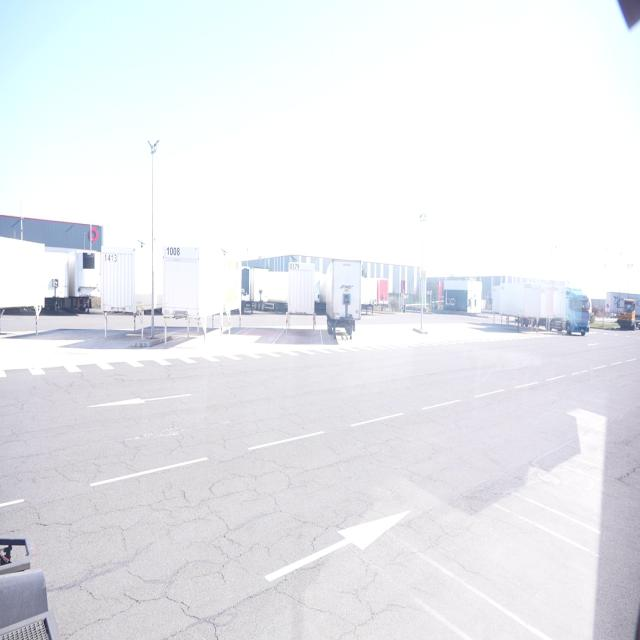Code: (289, 260, 309, 275), (164, 245, 182, 261), (105, 250, 121, 267)
